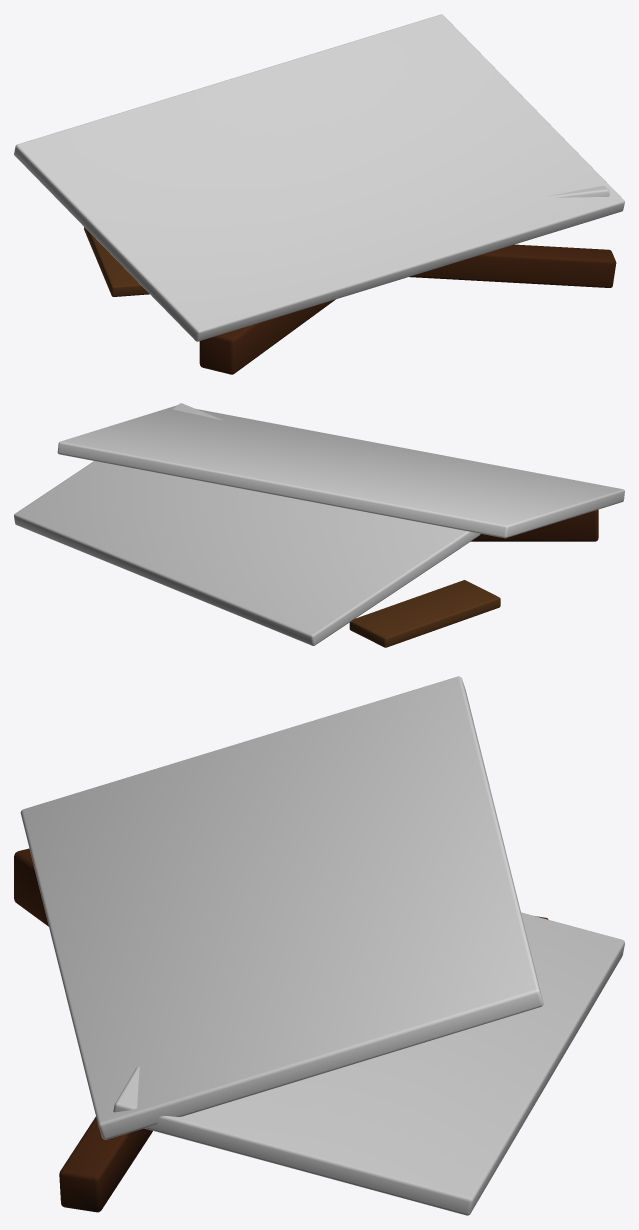
Rendered from collapsed-roof.obj.
3 renders of one model, top to bottom at view 1: azimuth 30°, elevation 25°; view 2: azimuth 150°, elevation 25°; view 3: azimuth 270°, elevation 25°, orthographic. The views are drawn at different scales.
Parts seen in each view (by area): view 1: collapsed-roof; view 2: collapsed-roof; view 3: collapsed-roof.
Part boxes in pixels (box(x1,y1,x2,y2)): collapsed-roof: box(14, 14, 624, 374); collapsed-roof: box(14, 403, 624, 647); collapsed-roof: box(14, 676, 624, 1215).
Bounding box in the file's own units: 2.99 × 0.8266 × 2.12.
